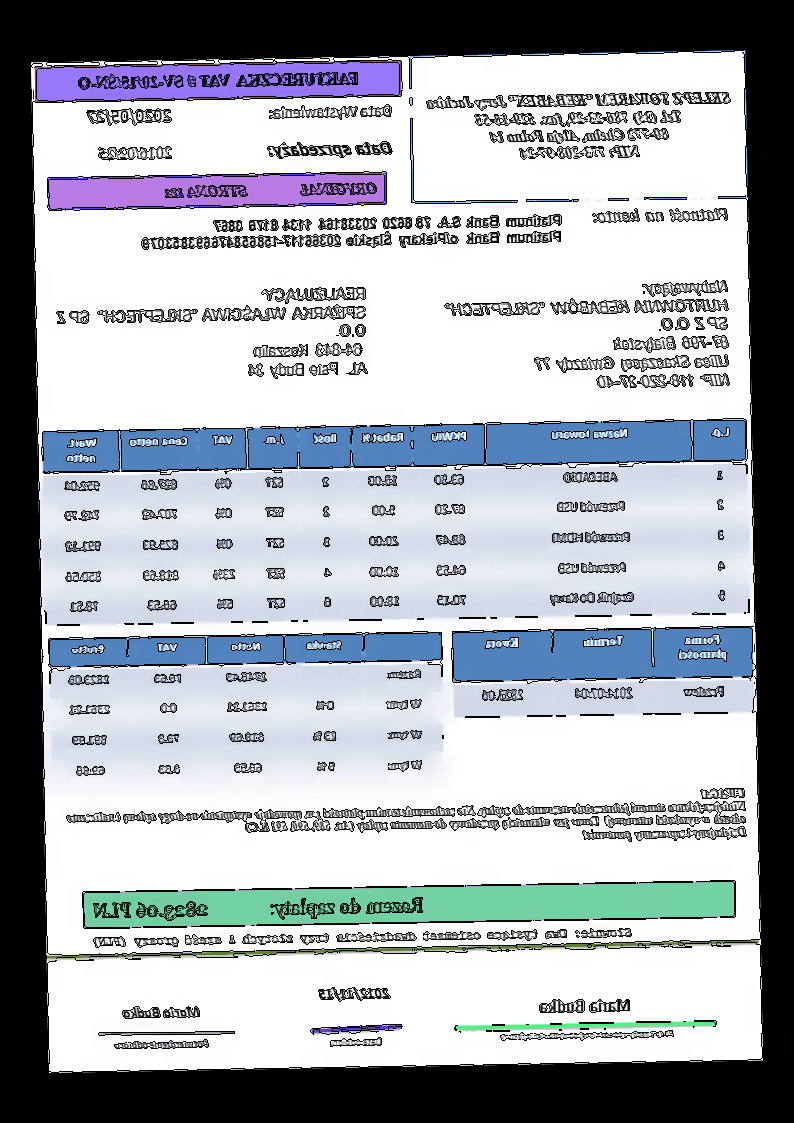Table: (41, 416, 752, 629), (47, 630, 448, 792), (449, 624, 755, 719)
TextBox: (65, 784, 748, 853), (442, 276, 732, 393), (53, 284, 370, 382), (426, 86, 735, 167), (137, 211, 563, 255), (92, 924, 637, 950), (91, 891, 428, 926), (72, 65, 360, 95), (162, 179, 380, 201), (592, 204, 730, 225), (496, 1027, 677, 1042), (267, 101, 396, 121), (265, 141, 395, 160), (84, 104, 174, 128), (535, 995, 634, 1016), (112, 1036, 211, 1052), (119, 1004, 203, 1021), (315, 984, 393, 1002), (96, 144, 174, 161), (324, 1034, 386, 1049)
